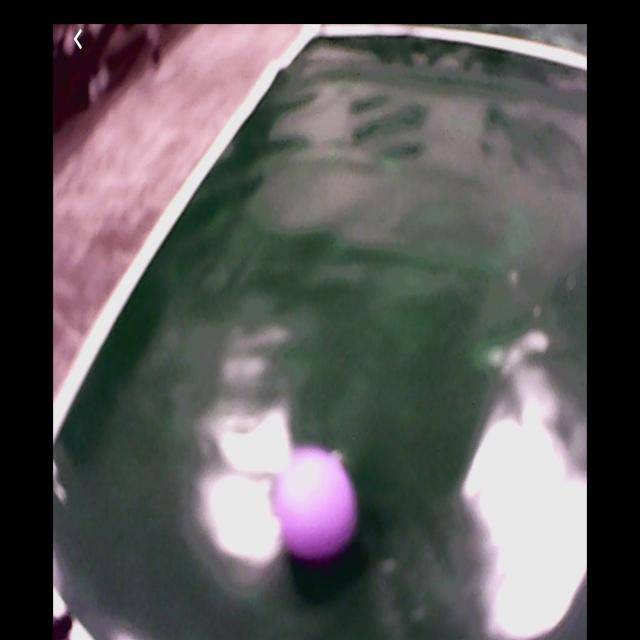ball: (270, 444, 360, 563)
